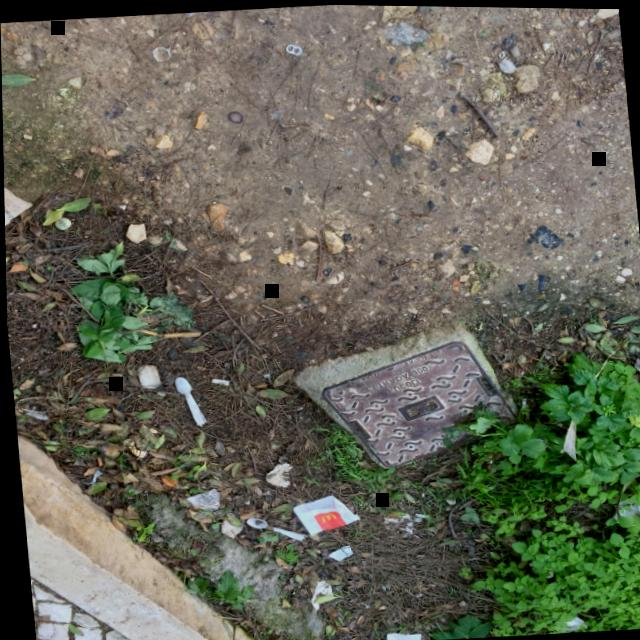Cigarette: (210, 377, 228, 383)
Other plastic: (326, 542, 350, 559), (125, 439, 147, 457)
Paper bag: (291, 493, 357, 533), (616, 497, 640, 522)
Plastic film: (183, 486, 217, 509)
Plastic utensils: (173, 375, 205, 423), (244, 515, 302, 539)
Pop tab: (285, 42, 302, 53)
